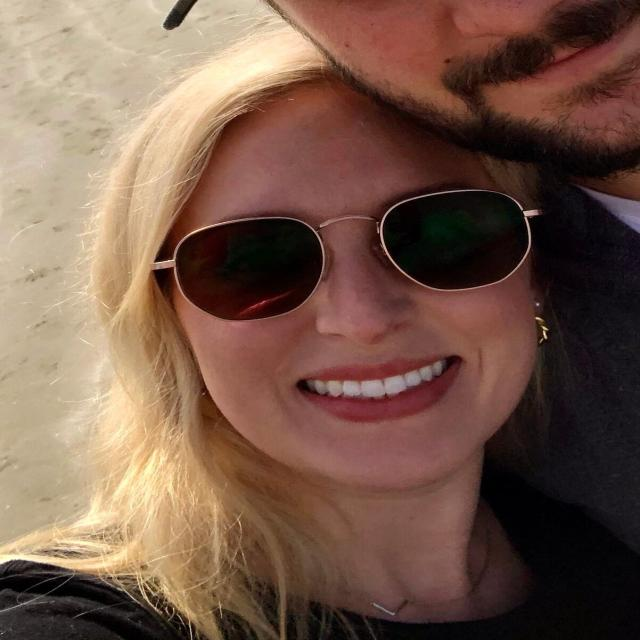2_gafas: (149, 187, 545, 323)
